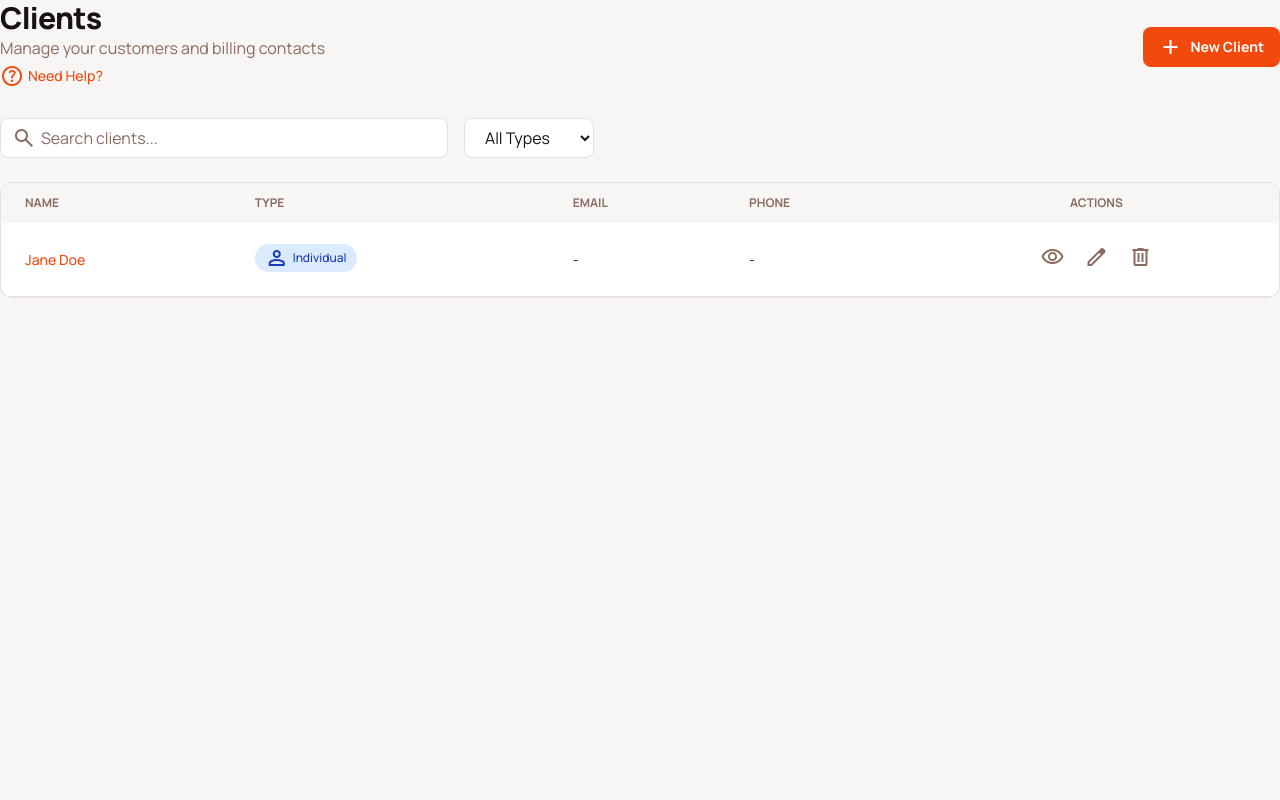
Test: ClientListPage delete confirmation (SOUPFIN-21) › uses firstName + lastName in the confirmation for an individual with null name
The image size is (1280, 800).
Click the button with test id "client-delete-c10" at {"x": 1140, "y": 260}, box [1122, 239, 1158, 280]
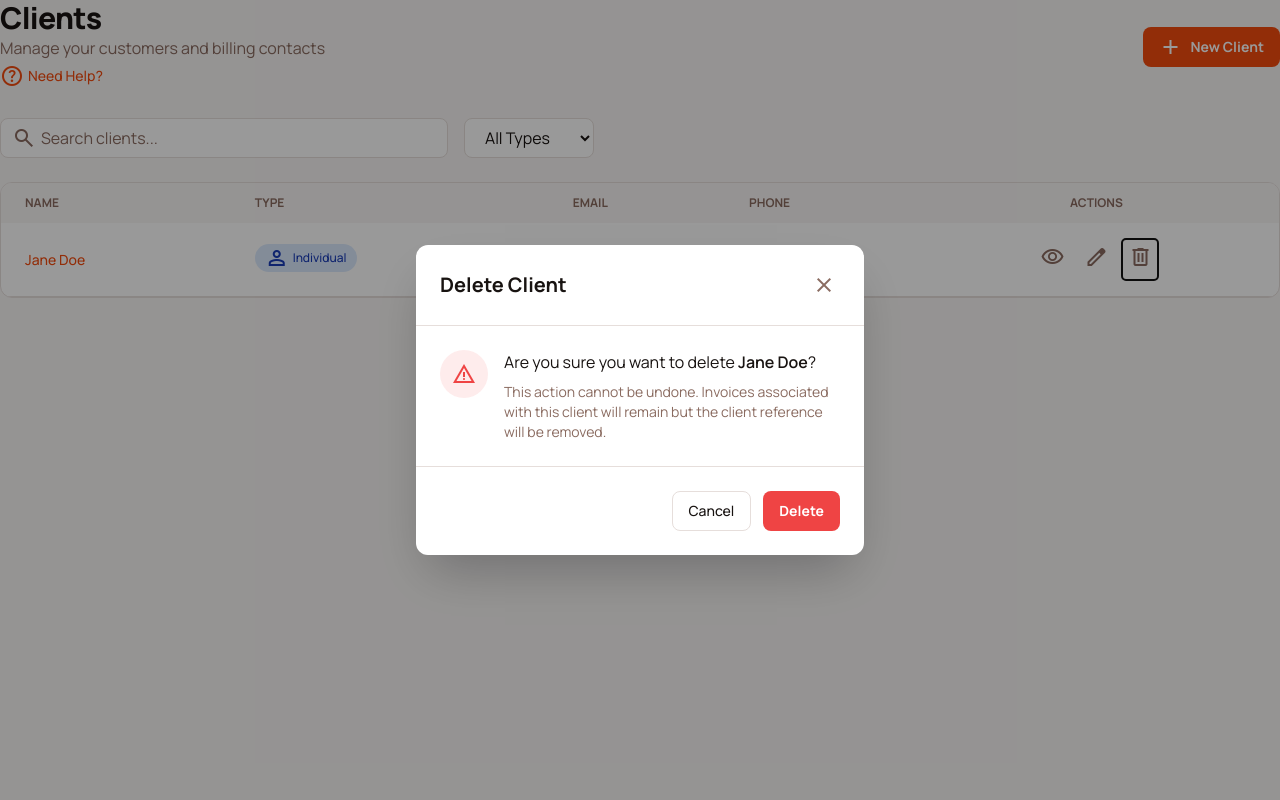
Now the element with test id "delete-confirmation-modal" shows "Jane Doe", box [738, 351, 808, 373]
